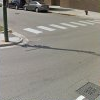crosswalk: (22, 19, 100, 34)
